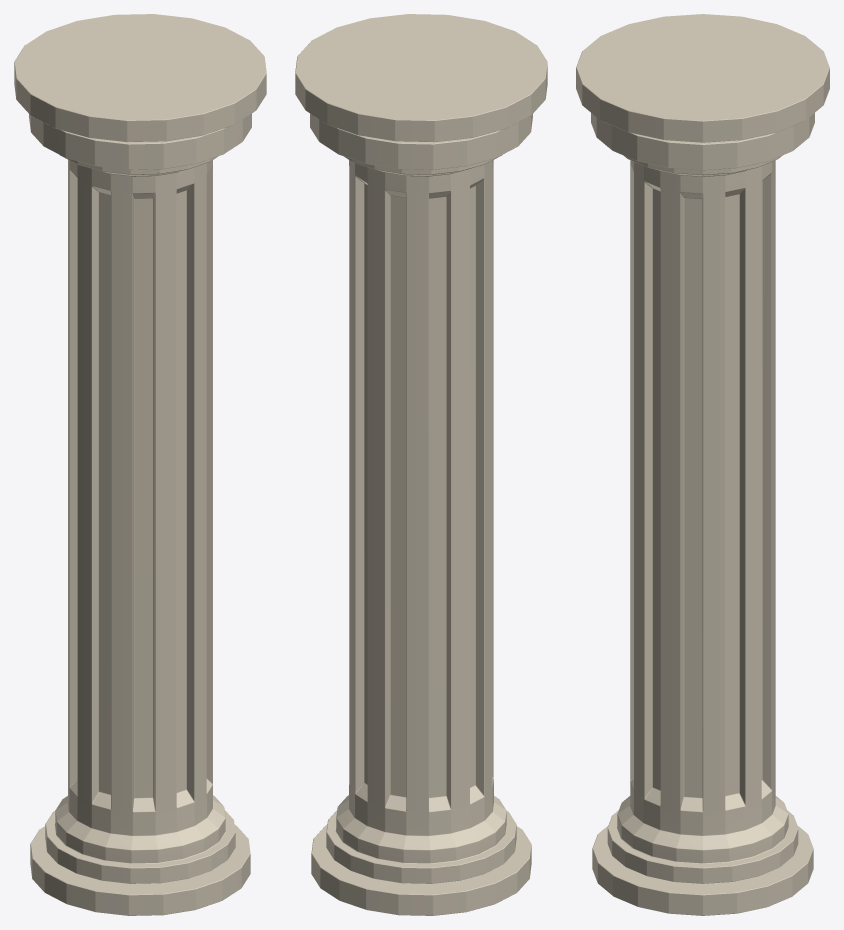
The model's file is Pillar.fbx.
The picture shows the model from 3 angles, left to right: view 1: azimuth 30°, elevation 25°; view 2: azimuth 150°, elevation 25°; view 3: azimuth 270°, elevation 25°; orthographic projection.
Visible parts, largest first — view 1: pillar_low; view 2: pillar_low; view 3: pillar_low.
Boxes of the visible parts, bbox=[...] form: pillar_low: bbox=[14, 14, 266, 915]; pillar_low: bbox=[295, 14, 547, 915]; pillar_low: bbox=[576, 14, 829, 915].
Size of the model in its own units: 111 by 387 by 111.
